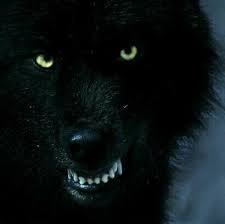Lobo: (1, 12, 202, 205)
